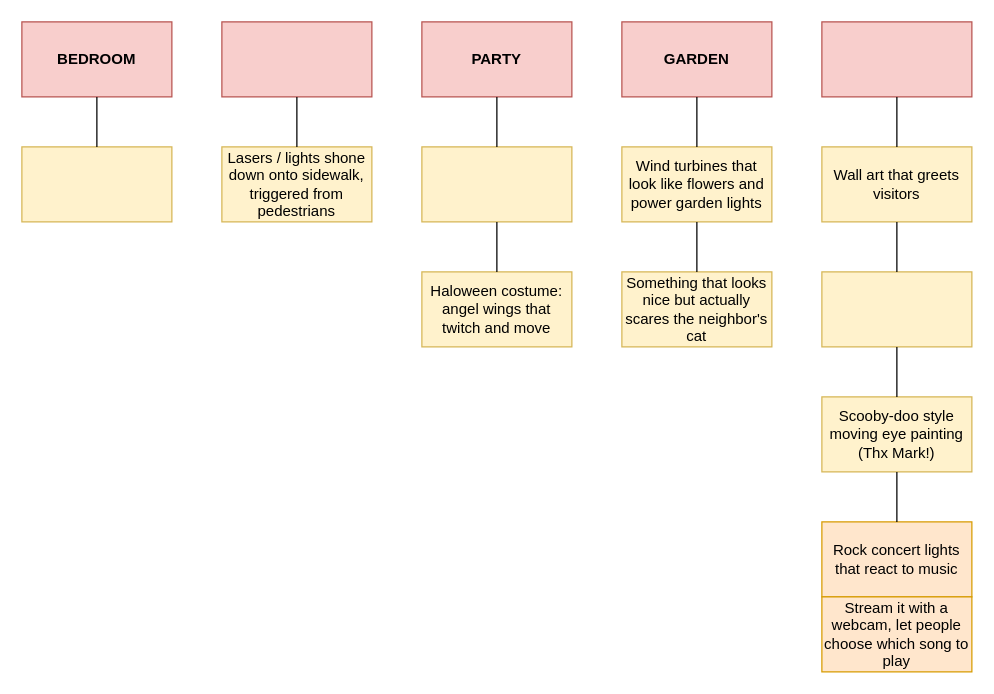
Some shapes in this 994 by 694 pixel diagram are drawn without their labels. Here are the shapes that lost their labels. From the top down, the box of each, then its label:
(221, 21, 372, 97): STREET
(821, 21, 972, 97): LIVING ROOM
(21, 146, 172, 222): Wake-up alarm (LED strips) to simulate sunrise
(421, 146, 572, 222): Robot backup dancers (ie. moving arms)
(821, 271, 972, 347): Kaleidoscope coffee table (Thx Mark!)
